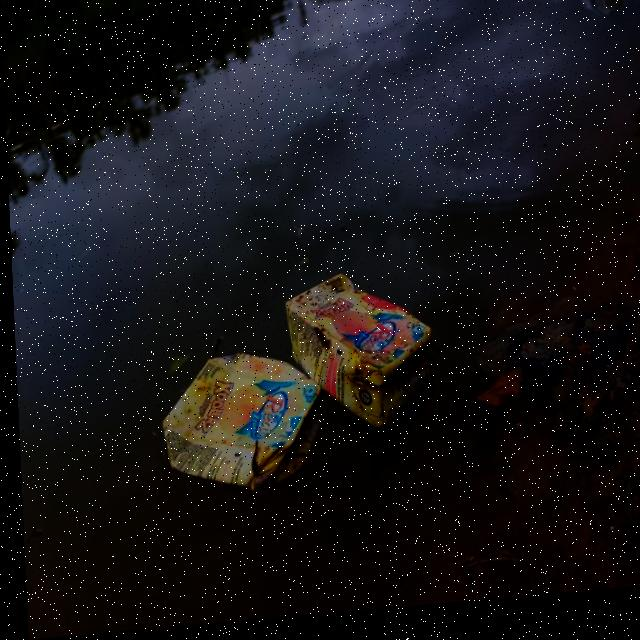paper: (144, 336, 314, 528), (279, 270, 433, 436)
waterbottle: (557, 0, 640, 18)
